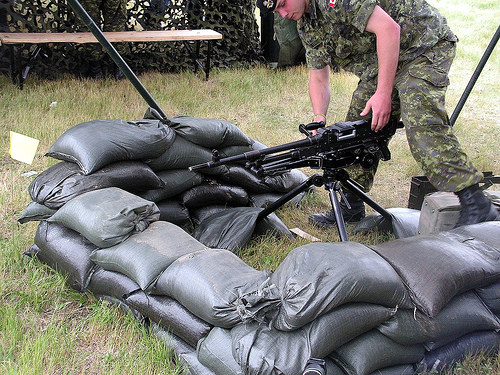rifle: (190, 129, 343, 198)
rifle in hand: (128, 109, 395, 223)
